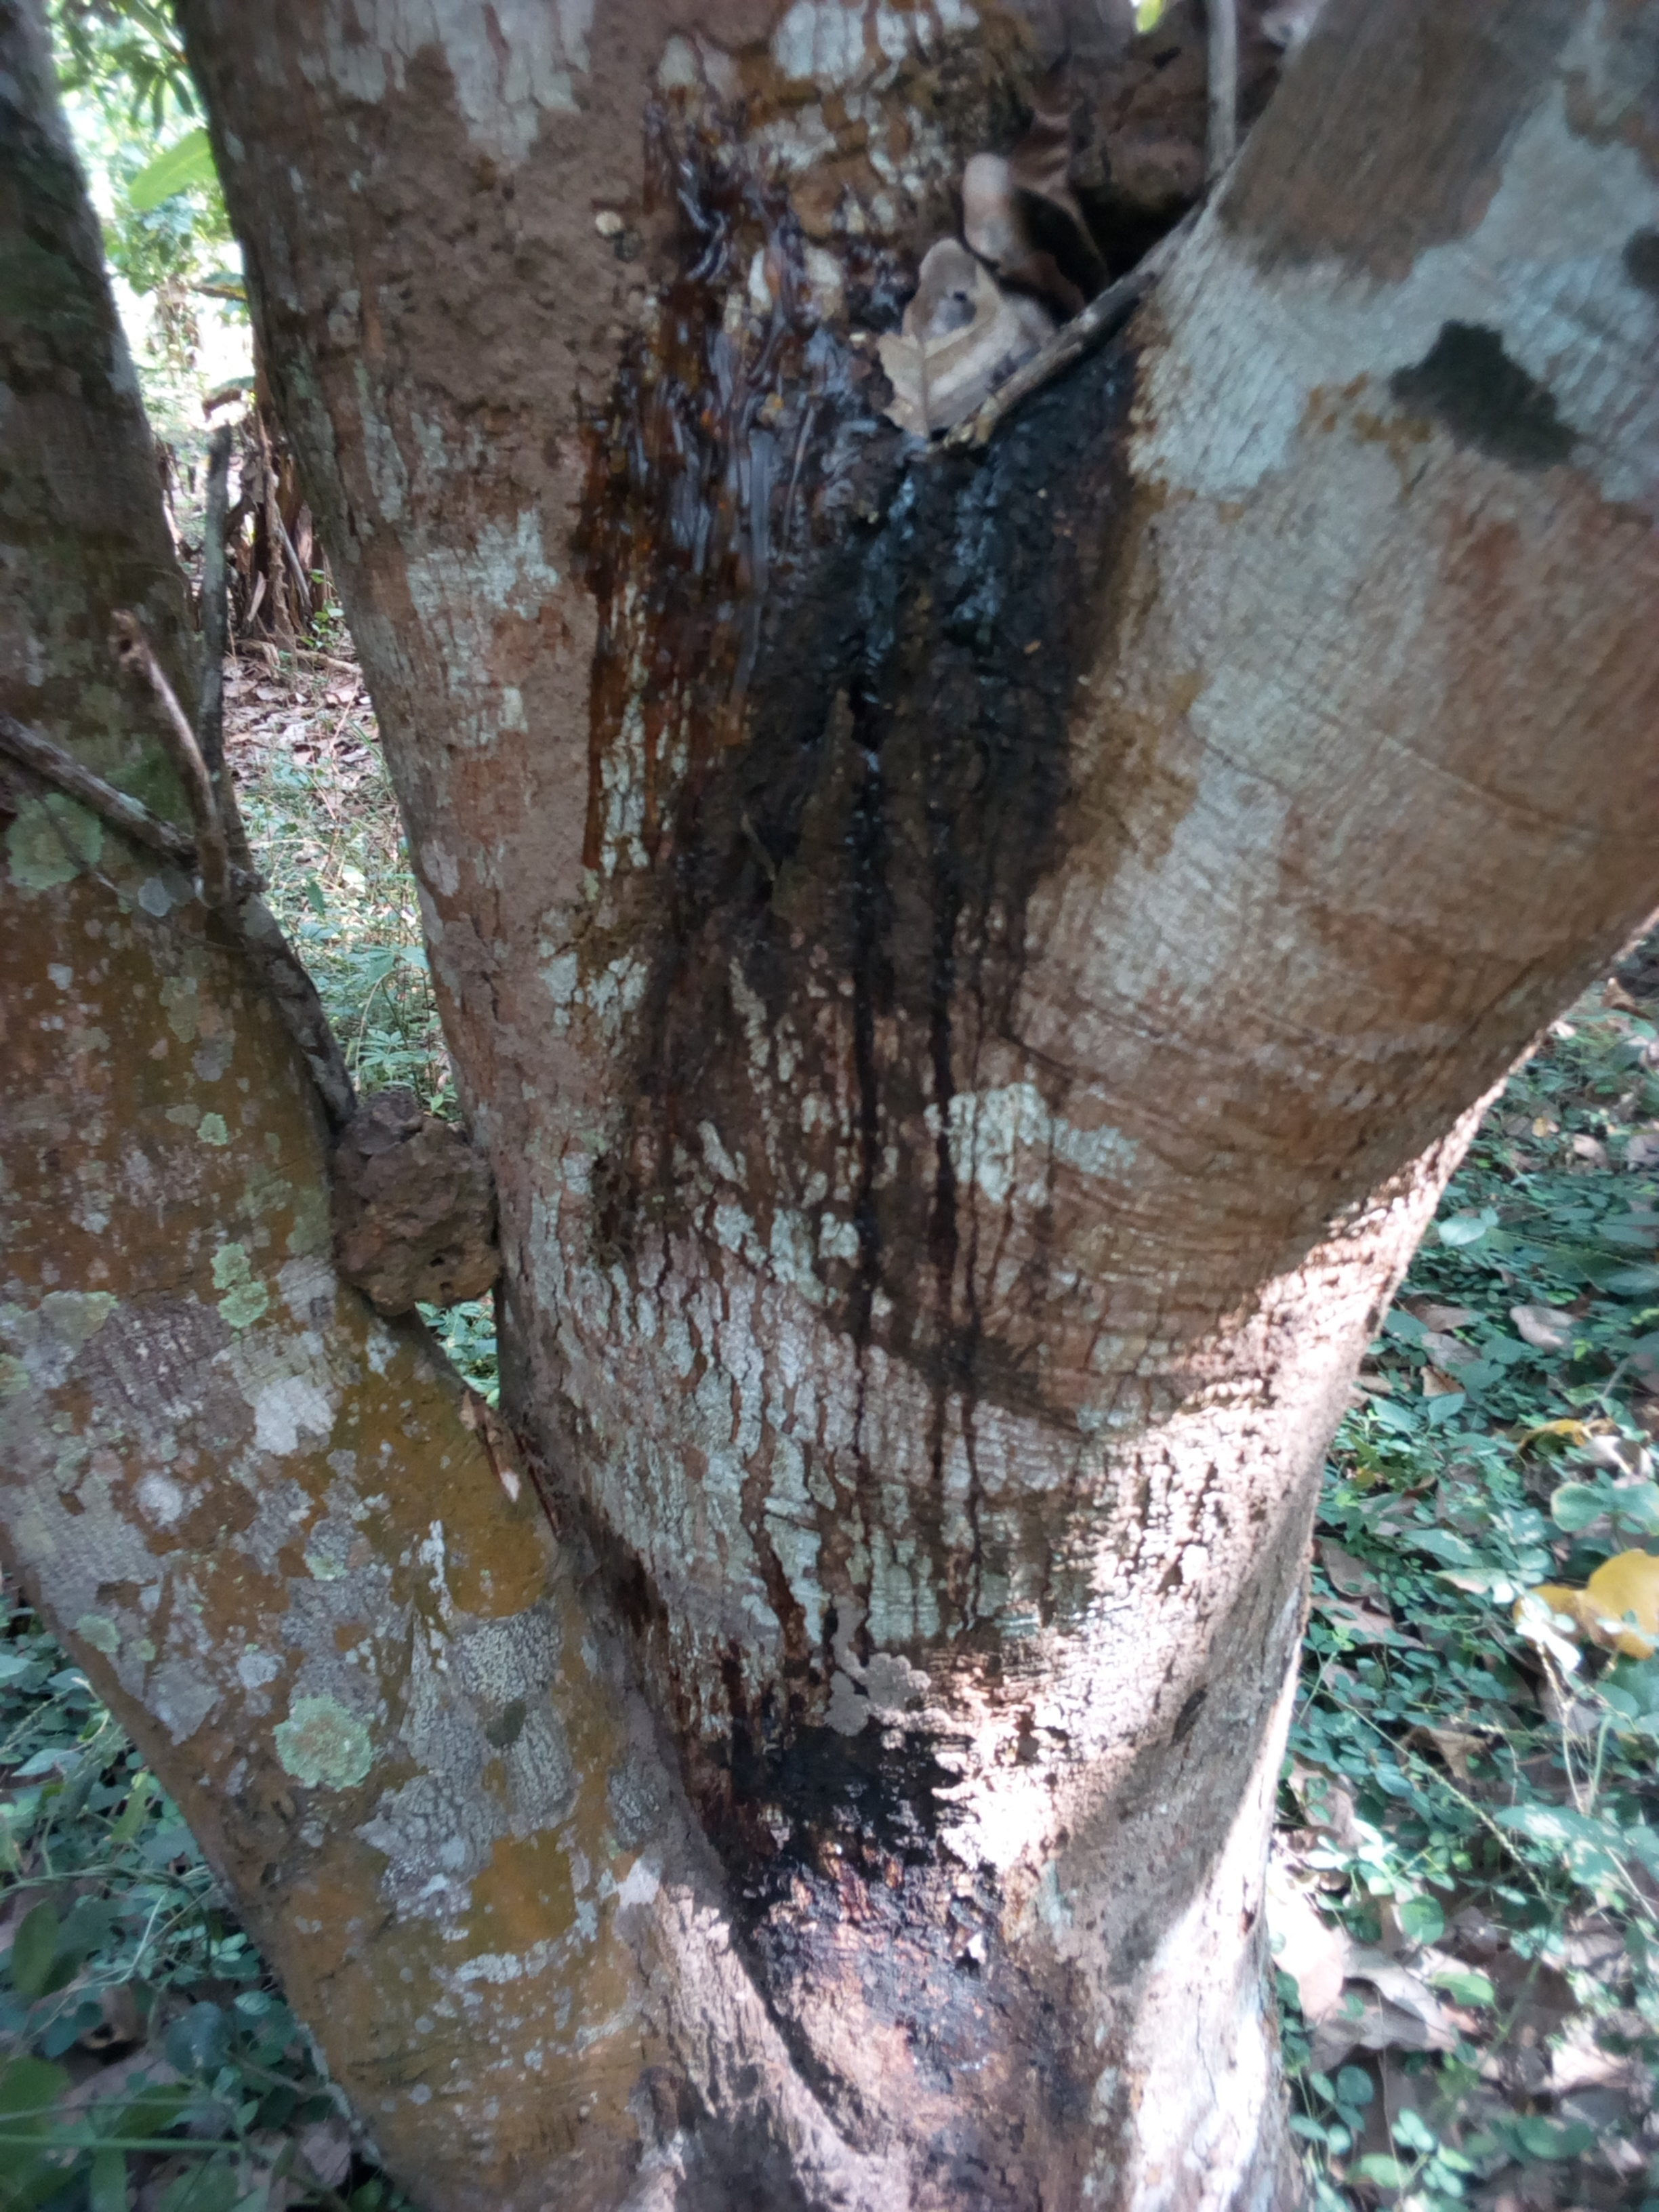Mecocorynus longiceps: (464, 141, 1249, 1393)
